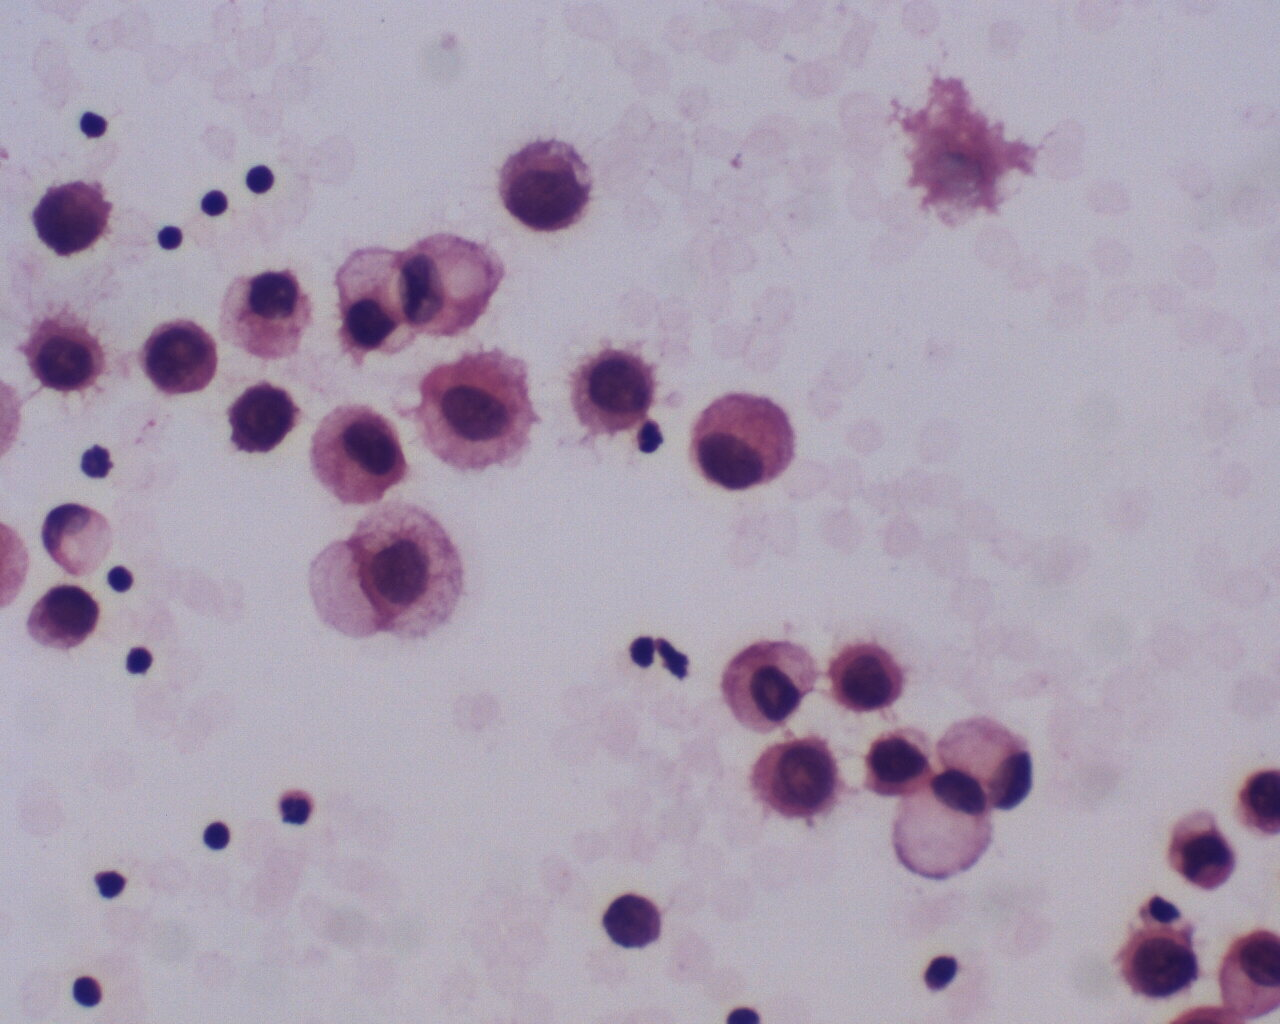ab: (498, 135, 607, 240), (744, 732, 850, 829), (563, 341, 662, 442), (25, 309, 111, 396), (1117, 920, 1202, 1006), (30, 174, 115, 258), (142, 317, 219, 398), (222, 377, 299, 457), (26, 582, 101, 658), (827, 639, 904, 714), (604, 888, 664, 951)
histo: (880, 767, 1002, 883), (941, 711, 1038, 814), (38, 496, 121, 579)
lymph: (120, 636, 163, 686), (197, 814, 237, 858), (73, 106, 115, 145), (66, 970, 106, 1010), (103, 559, 146, 595), (152, 219, 188, 257), (245, 163, 278, 200)
meso: (305, 400, 415, 510), (686, 388, 796, 496)
